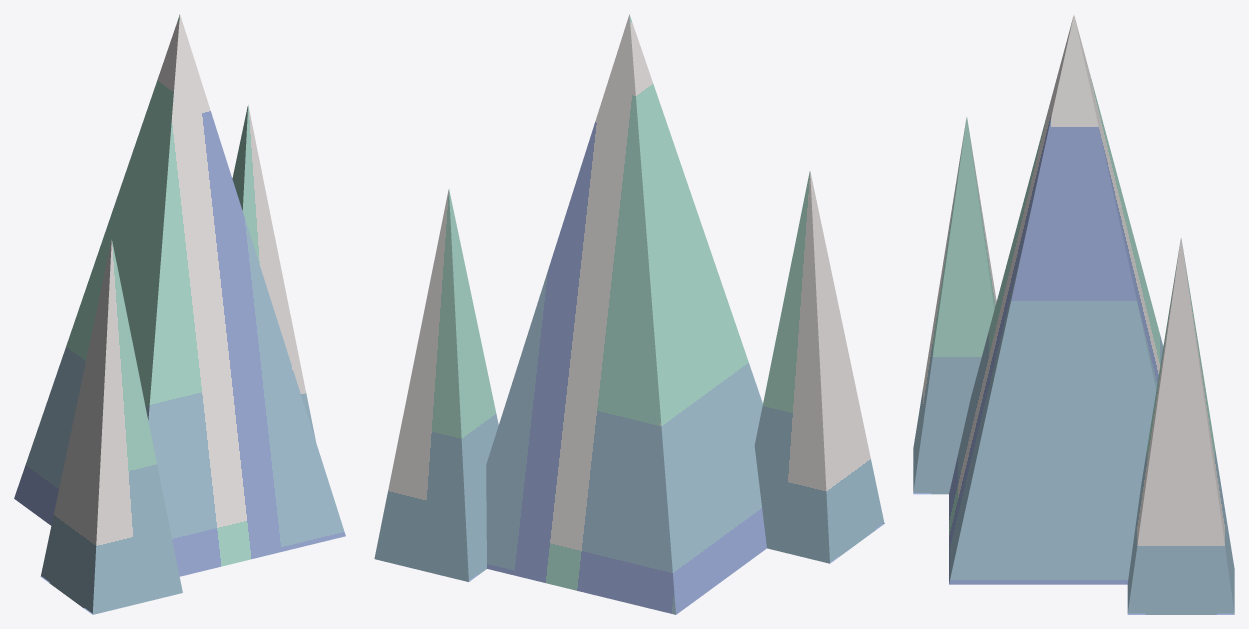
Rendered from ice-spikes.gltf.
3 views of the same model, side by side, from view 1: azimuth 30°, elevation 25°; view 2: azimuth 150°, elevation 25°; view 3: azimuth 270°, elevation 25° (orthographic). The views are drawn at different scales.
Parts seen in each view (by area): view 1: pyramid (×3); view 2: pyramid (×3); view 3: pyramid (×3).
Boxes of the visible parts, left/top/right/bottom form: pyramid (×3): left=14, top=14, right=345, bottom=614; pyramid (×3): left=374, top=14, right=884, bottom=614; pyramid (×3): left=913, top=15, right=1234, bottom=614.
Bounding box in the file's own units: 0.99 × 1.44 × 0.81.
1 material, 1 textured.
